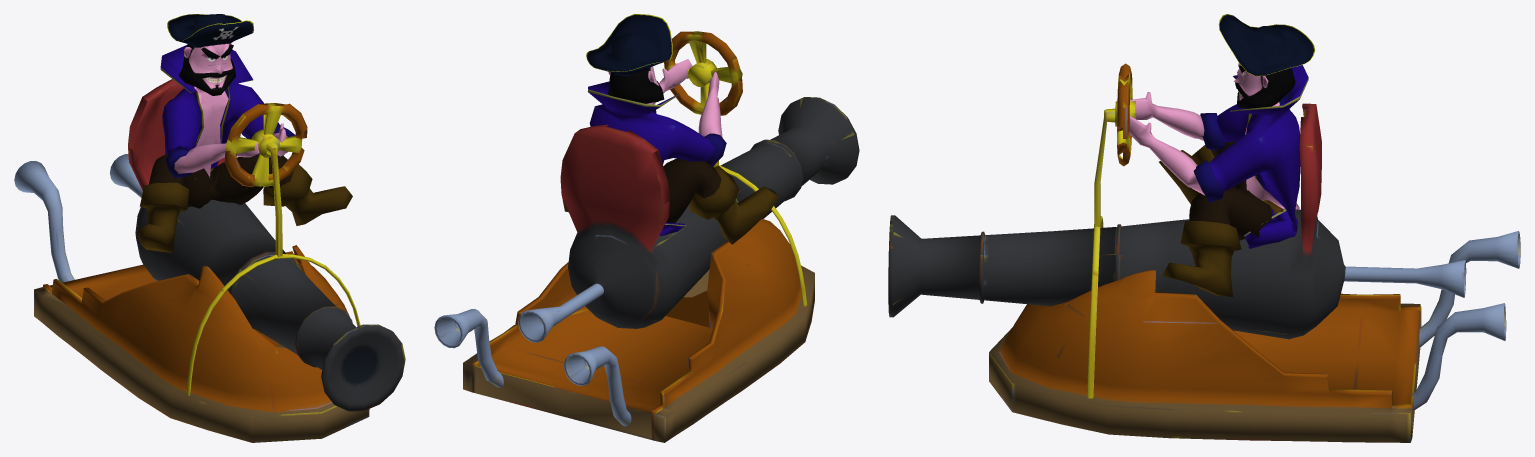
Rendered from VacilePirata_000542.obj.
The picture shows the model from 3 angles, left to right: view 1: azimuth 30°, elevation 25°; view 2: azimuth 150°, elevation 25°; view 3: azimuth 270°, elevation 25°; orthographic projection. The views are drawn at different scales.
Visible parts, largest first — view 1: carro_pirata_carro_pirata.001, Pirata_PirataH; view 2: carro_pirata_carro_pirata.001, Pirata_PirataH; view 3: carro_pirata_carro_pirata.001, Pirata_PirataH.
Part boxes in pixels (<box>): carro_pirata_carro_pirata.001: <box>14,79,405,442</box>; Pirata_PirataH: <box>138,14,352,252</box>; carro_pirata_carro_pirata.001: <box>434,31,859,442</box>; Pirata_PirataH: <box>562,14,779,244</box>; carro_pirata_carro_pirata.001: <box>888,63,1520,442</box>; Pirata_PirataH: <box>1129,14,1315,296</box>.
Size of the model in its own units: 5.13 by 7.75 by 12.1.
